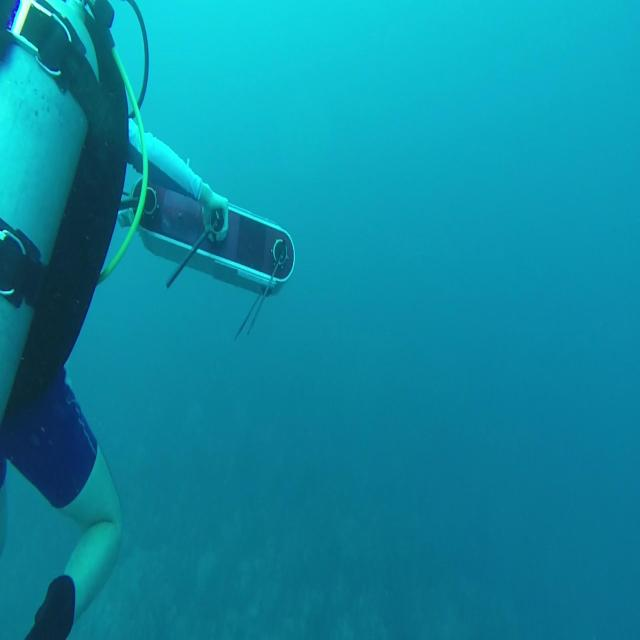human: (0, 1, 295, 637)
